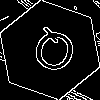Q: (25, 25, 81, 84)
